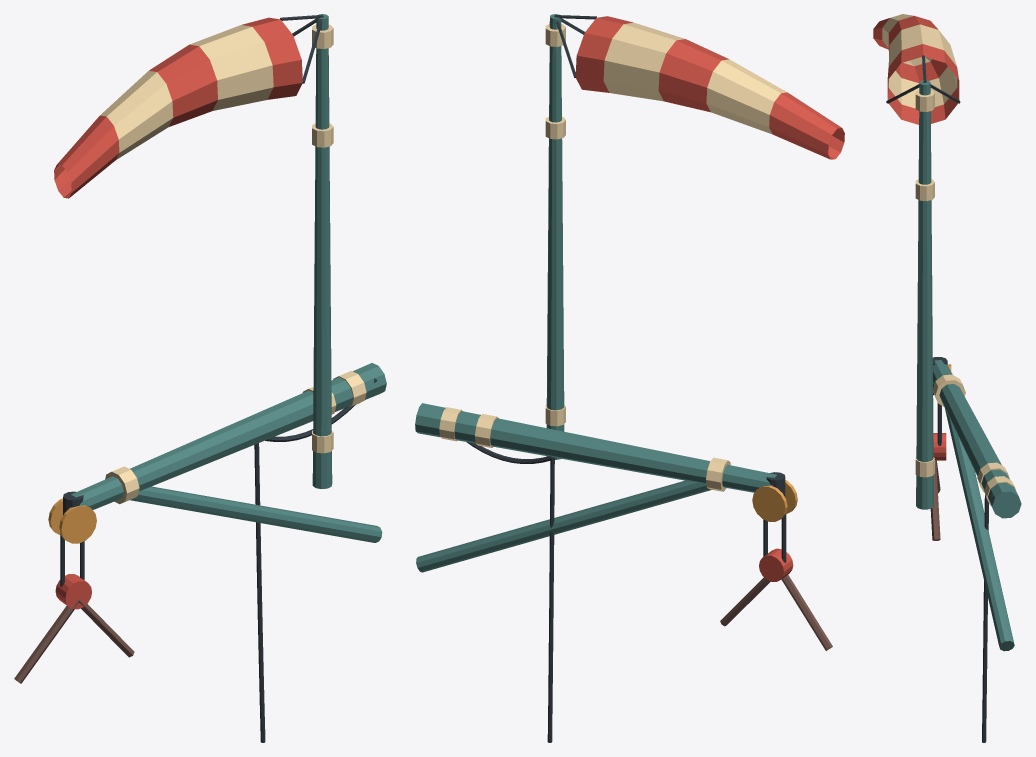
Rendered from PulleyRig.gltf.
3 renders of one model, left to right at view 1: azimuth 30°, elevation 25°; view 2: azimuth 150°, elevation 25°; view 3: azimuth 270°, elevation 25°, orthographic. The views are drawn at different scales.
Visible parts, largest first — view 1: Weather sleeve, Swivel crane, Anemometer mast, Fall line, Block and tackle, Canvas sling, Boom couplings, Mast ferrules, Lower block; view 2: Weather sleeve, Swivel crane, Anemometer mast, Fall line, Boom couplings, Canvas sling, Block and tackle, Mast ferrules, Lower block; view 3: Swivel crane, Weather sleeve, Anemometer mast, Mast ferrules, Boom couplings, Fall line, Canvas sling, Weather sleeve bridle, Lower block.
Part boxes in pixels (left/top/right/bottom): Weather sleeve: left=54, top=17, right=302, bottom=198; Swivel crane: left=70, top=363, right=386, bottom=542; Anemometer mast: left=312, top=14, right=332, bottom=489; Fall line: left=254, top=378, right=377, bottom=742; Block and tackle: left=48, top=498, right=96, bottom=543; Canvas sling: left=14, top=599, right=134, bottom=683; Boom couplings: left=105, top=371, right=366, bottom=504; Mast ferrules: left=312, top=24, right=333, bottom=453; Lower block: left=55, top=574, right=91, bottom=609; Weather sleeve: left=575, top=16, right=844, bottom=159; Swivel crane: left=415, top=403, right=776, bottom=572; Anemometer mast: left=546, top=14, right=564, bottom=459; Fall line: left=466, top=442, right=554, bottom=742; Boom couplings: left=439, top=407, right=730, bottom=491; Canvas sling: left=720, top=575, right=832, bottom=650; Block and tackle: left=752, top=480, right=797, bottom=521; Mast ferrules: left=545, top=24, right=565, bottom=426; Lower block: left=759, top=548, right=793, bottom=581; Swivel crane: left=933, top=360, right=1021, bottom=651; Weather sleeve: left=873, top=14, right=959, bottom=124; Anemometer mast: left=916, top=80, right=933, bottom=509; Mast ferrules: left=915, top=90, right=934, bottom=477; Boom couplings: left=933, top=374, right=1016, bottom=505; Fall line: left=982, top=494, right=992, bottom=742; Canvas sling: left=930, top=460, right=940, bottom=540; Weather sleeve bridle: left=886, top=55, right=960, bottom=103; Lower block: left=933, top=433, right=946, bottom=460.
Bounding box in the file's own units: 2.57 × 4.58 × 0.9044.
